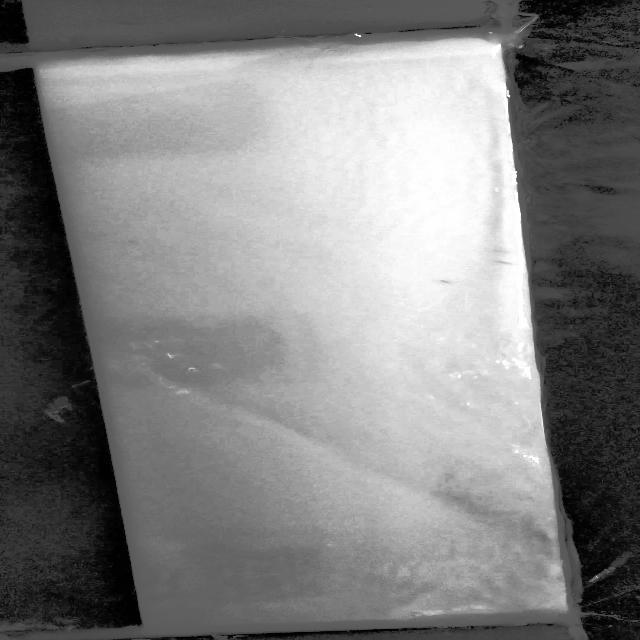shrimp: (427, 274, 459, 292)
